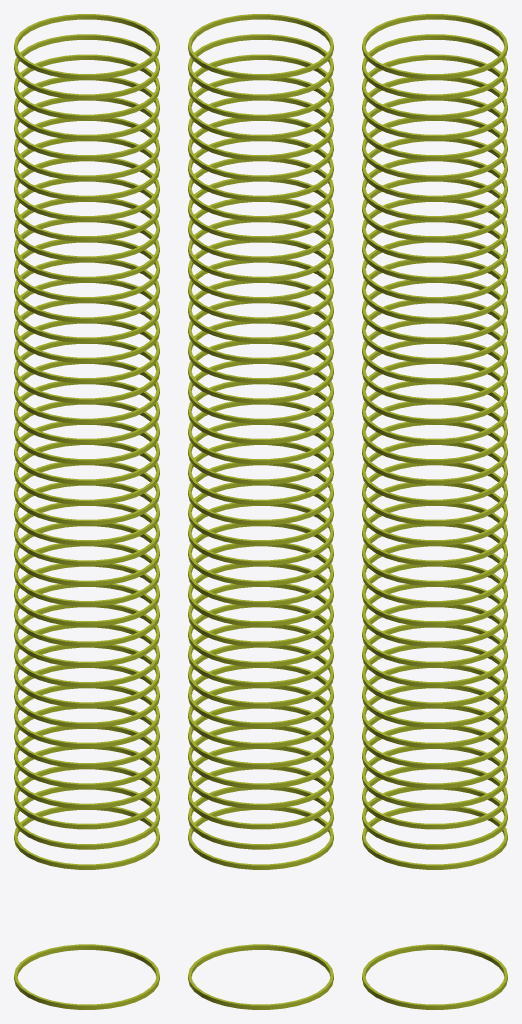
File: ring.glb
3 renders of one model, left to right at view 1: azimuth 30°, elevation 25°; view 2: azimuth 150°, elevation 25°; view 3: azimuth 270°, elevation 25°, orthographic.
Visible parts, largest first — view 1: ring; view 2: ring; view 3: ring.
Part boxes in pixels (x1,y1,x2,y2): ring: (14,14,159,1009); ring: (188,14,333,1009); ring: (362,14,507,1009).
Bounding box in the file's own units: 11.72 × 83.31 × 11.79.
